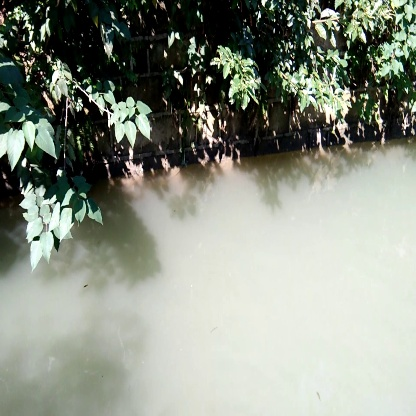grass: (14, 172, 113, 265)
